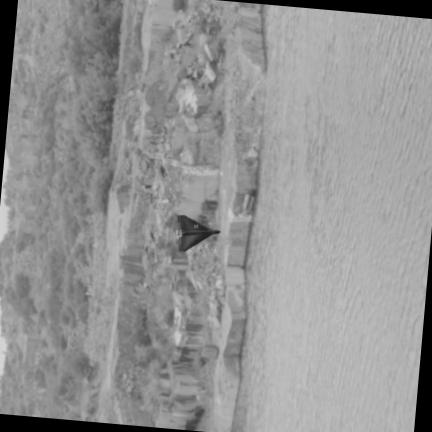Shahed: (179, 215, 219, 249)
